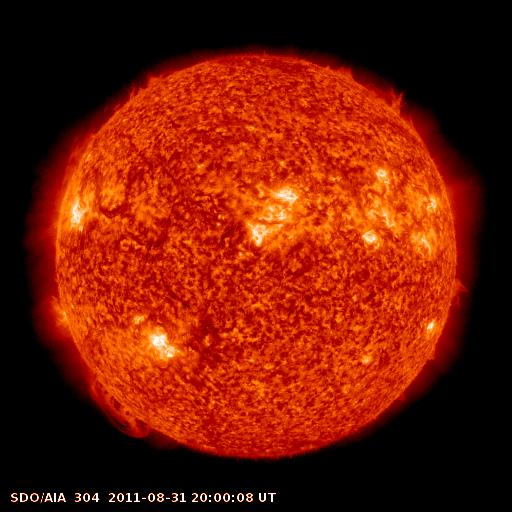prominence: (325, 59, 423, 135), (78, 361, 162, 443), (62, 115, 111, 184), (118, 63, 179, 105), (446, 272, 479, 313)
